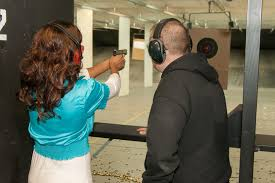Gun: (109, 48, 131, 56)
